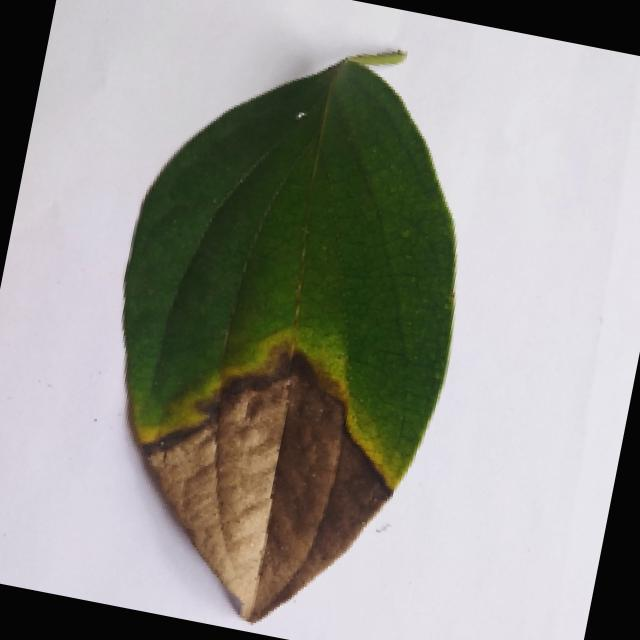footrot: (59, 13, 504, 640)
